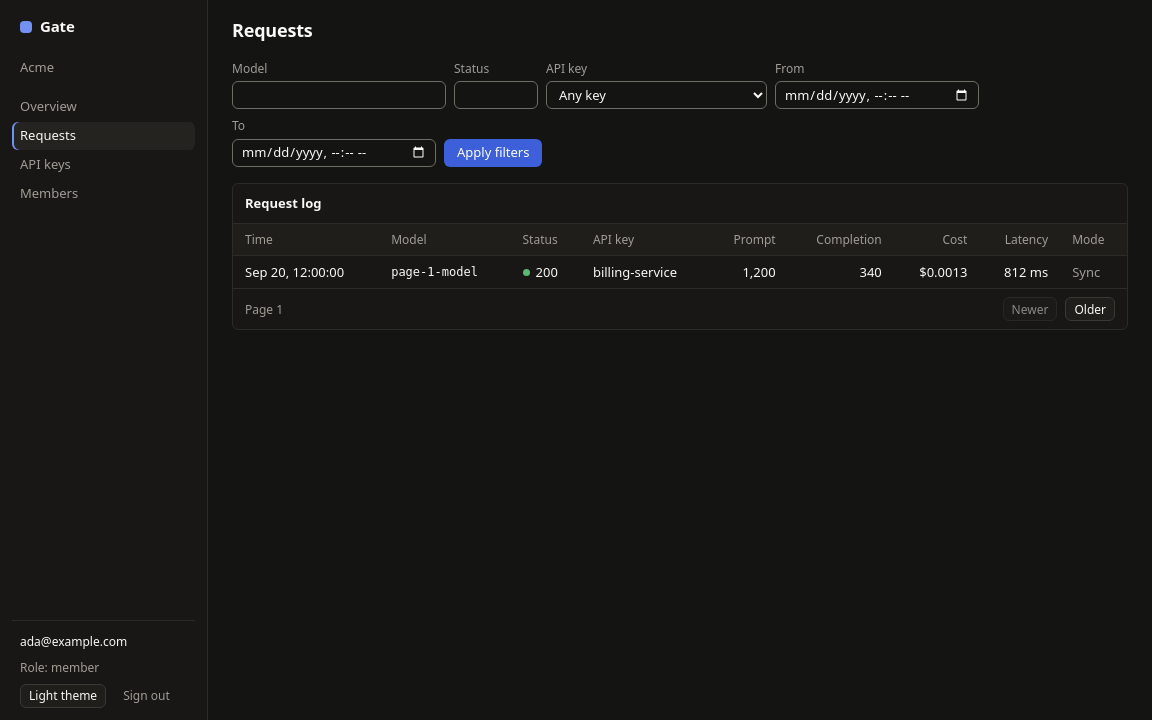
requests: pagination › applying filters starts again from the first page
Expected: the text "page-1-model" is shown, [379,256,511,288]
Step 1. Click the button "Older" → (1090, 309), box [1065,297,1115,321]
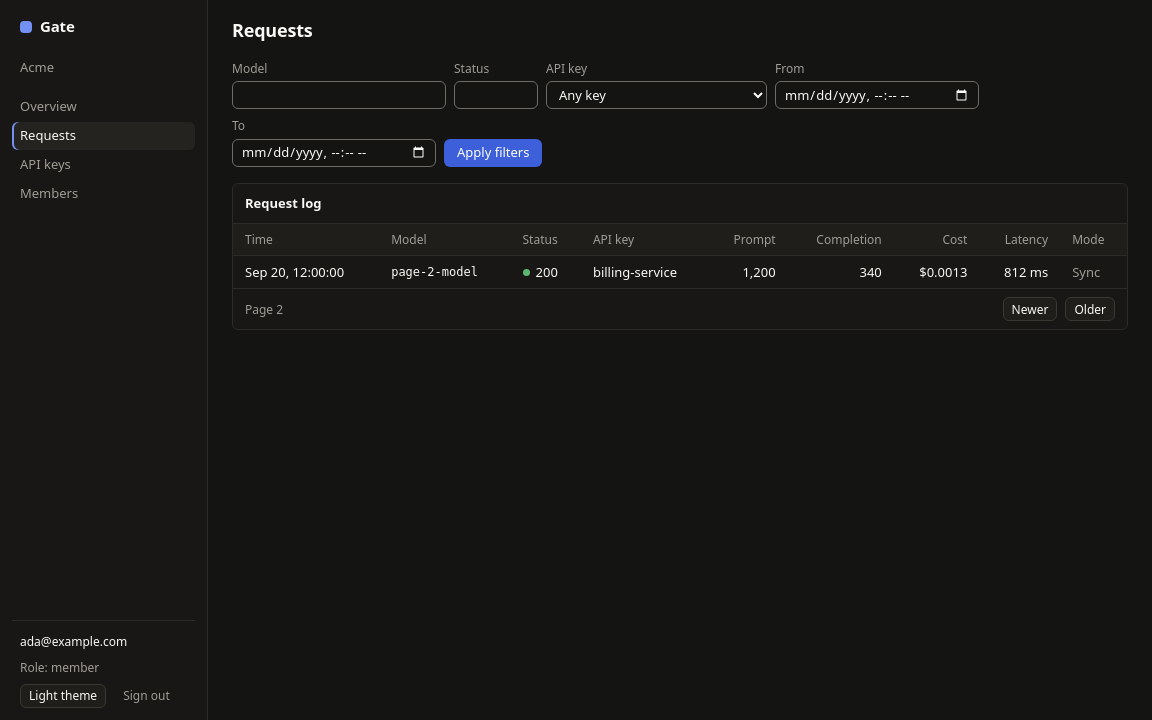
Now the text "page-2-model" is shown, box [379,256,511,288]
Step 2. Type "x" into the field labelled "Model" → (339, 95), box [232,81,446,109]
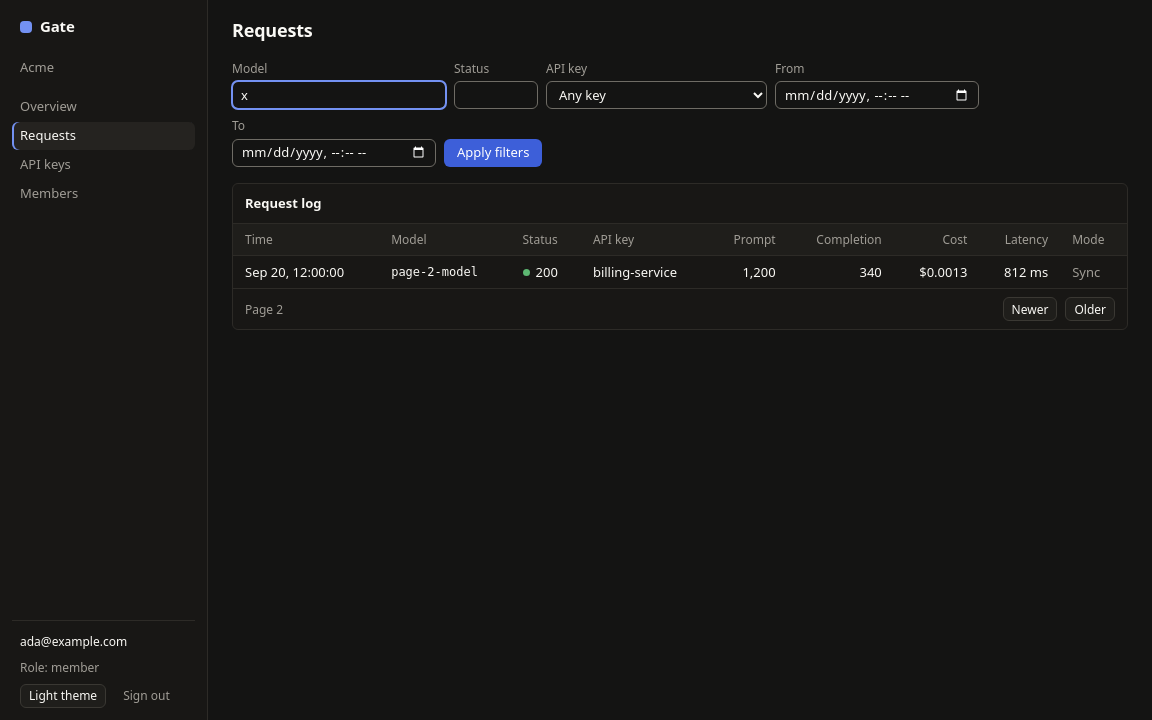
Step 3. Click the button "Apply filters" → (493, 153), box [444,139,542,167]
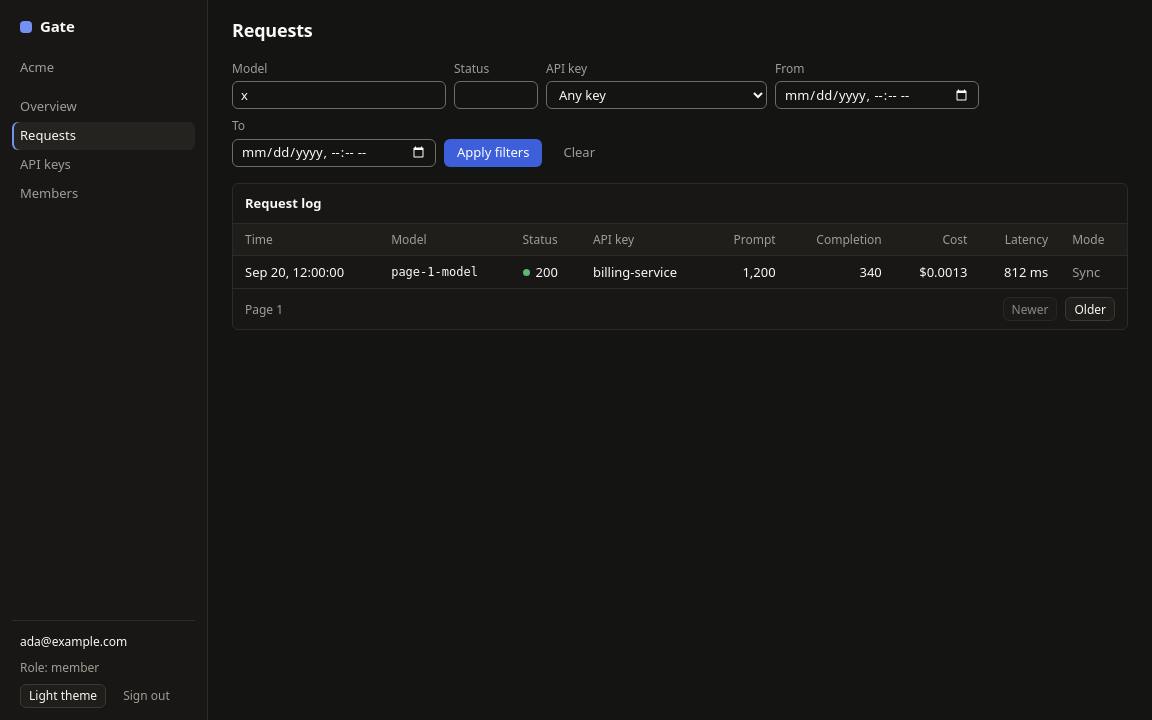
Now the text "Page 1" is shown, box [245,301,283,318]
